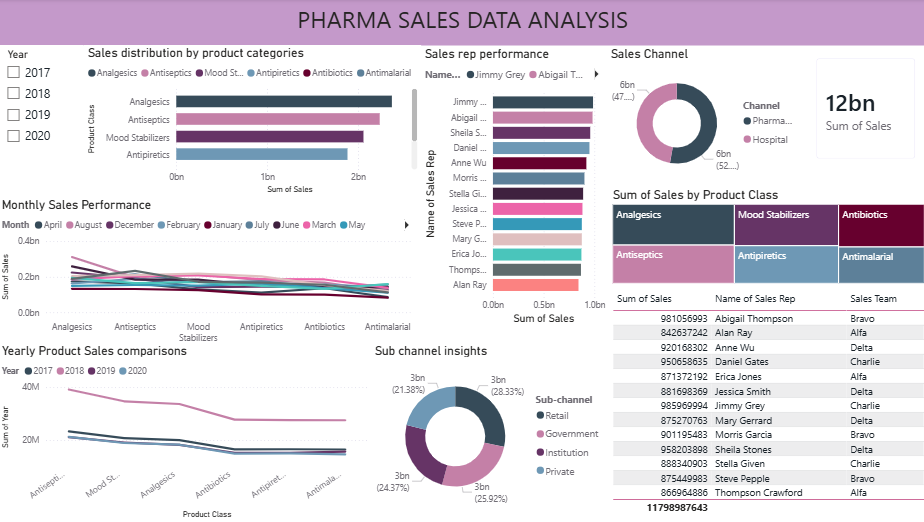

What the dashboard file says about the page in this screenshot:
{"tool":"powerbi","page":{"name":"Page 1","canvas":[1280,720],"ordinal":0},"visuals":[{"type":"lineChart","title":"Monthly Sales Performance","fields":{"Series":["Sheet1.Month"],"Y":["Sheet1.Sales"],"Category":["Sheet1.Product Class"]},"box":[0,272.5,582.2,218.8],"z":0},{"type":"textbox","box":[0,0,1279.7,63.8],"z":1000},{"type":"lineChart","title":"Yearly Product Sales comparisons","fields":{"Category":["Sheet1.Product Class"],"Y":["Sheet1.Year"],"Series":["Sheet1.Year"]},"box":[0,473.5,513.4,246.4],"z":2000},{"type":"barChart","title":"Sales distribution by product categories","fields":{"Y":["Sheet1.Sales"],"Category":["Sheet1.Product Class"],"Series":["Sheet1.Product Class"]},"box":[118.4,63.3,463.8,209.2],"z":3000},{"type":"treemap","fields":{"Values":["Sheet1.Sales"],"Details":["Sheet1.Product Class"]},"box":[840.9,258.8,439.1,137.6],"z":4000},{"type":"slicer","fields":{"Values":["Sheet1.Year"]},"box":[0,63.3,118.4,173.4],"z":5000},{"type":"donutChart","title":"Sales Channel","fields":{"Category":["Sheet1.Channel"],"Y":["Sheet1.Sales"]},"box":[838.2,64.7,271.1,194.1],"z":6000},{"type":"donutChart","title":"Sub channel insights","fields":{"Category":["Sheet1.Sub-channel"],"Y":["Sheet1.Sales"]},"box":[513.4,473.5,327.6,238.1],"z":7000},{"type":"barChart","title":"Sales rep performance","fields":{"Category":["Sheet1.Name of Sales Rep"],"Y":["Sheet1.Sales"],"Series":["Sheet1.Name of Sales Rep"]},"box":[582.2,64.7,258.8,388.1],"z":8000},{"type":"cardVisual","fields":{"Data":["Sheet1.Sales"]},"box":[1109.3,64.7,170.7,172],"z":8001},{"type":"tableEx","fields":{"Values":["Sheet1.Sales","Sheet1.Name of Sales Rep","Sheet1.Sales Team"]},"box":[840.9,396.4,439.1,323.4],"z":8002}]}

Visuals, with their boxes in screenshot pixels (x1, y1, x2, y2), scaled from the page's 1280x720 canvas onto the 924x522 screenshot:
"Monthly Sales Performance" lineChart: <region>0, 198, 420, 356</region>
textbox: <region>0, 0, 923, 46</region>
"Yearly Product Sales comparisons" lineChart: <region>0, 343, 371, 521</region>
"Sales distribution by product categories" barChart: <region>85, 46, 420, 198</region>
treemap - Sheet1.Sales x Sheet1.Product Class: <region>607, 188, 923, 287</region>
slicer - Sheet1.Year: <region>0, 46, 85, 172</region>
"Sales Channel" donutChart: <region>605, 47, 801, 188</region>
"Sub channel insights" donutChart: <region>371, 343, 607, 516</region>
"Sales rep performance" barChart: <region>420, 47, 607, 328</region>
cardVisual - Sheet1.Sales: <region>801, 47, 923, 172</region>
tableEx - Sheet1.Sales x Sheet1.Name of Sales Rep: <region>607, 287, 923, 521</region>
